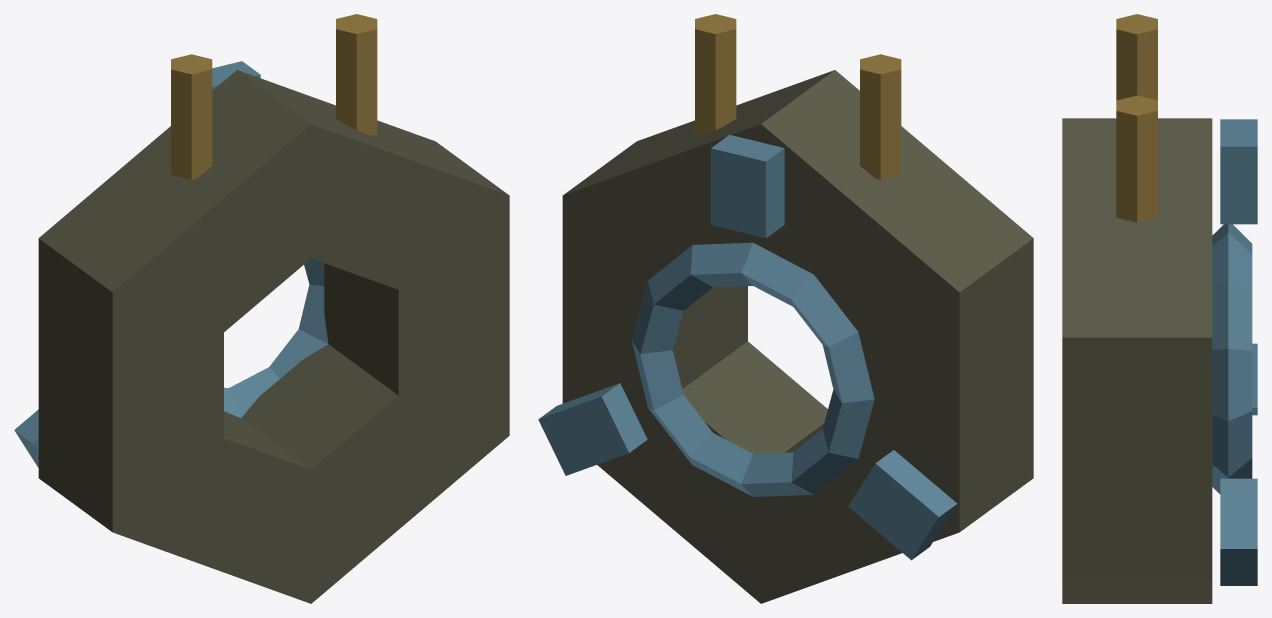
File: charge_nut.obj
The picture shows the model from 3 angles, left to right: view 1: azimuth 30°, elevation 25°; view 2: azimuth 150°, elevation 25°; view 3: azimuth 270°, elevation 25°; orthographic projection.
Visible parts, largest first — view 1: hex_nut, terminal, coil, charge_cell1; view 2: hex_nut, coil, terminal, charge_cell0, charge_cell1, charge_cell2; view 3: hex_nut, coil, terminal, charge_cell2, charge_cell0, charge_cell1.
Boxes of the visible parts, x1,y1,x2,y2 form: hex_nut: [38, 70, 509, 603]; terminal: [171, 14, 377, 179]; coil: [224, 258, 328, 417]; charge_cell1: [14, 409, 38, 467]; hex_nut: [562, 70, 1033, 603]; coil: [631, 242, 874, 496]; terminal: [695, 14, 901, 179]; charge_cell0: [711, 134, 784, 238]; charge_cell1: [848, 450, 957, 560]; charge_cell2: [538, 383, 647, 475]; hex_nut: [1062, 118, 1212, 603]; coil: [1212, 224, 1252, 494]; terminal: [1116, 14, 1157, 222]; charge_cell2: [1220, 478, 1257, 585]; charge_cell0: [1220, 119, 1257, 224]; charge_cell1: [1252, 343, 1257, 415].
Bounding box in the file's own units: 0.874 × 1.11 × 0.365.
